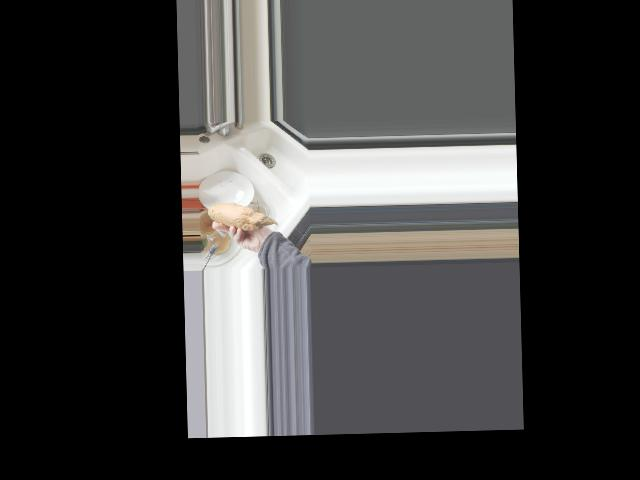sweet_potato: (207, 199, 278, 231)
